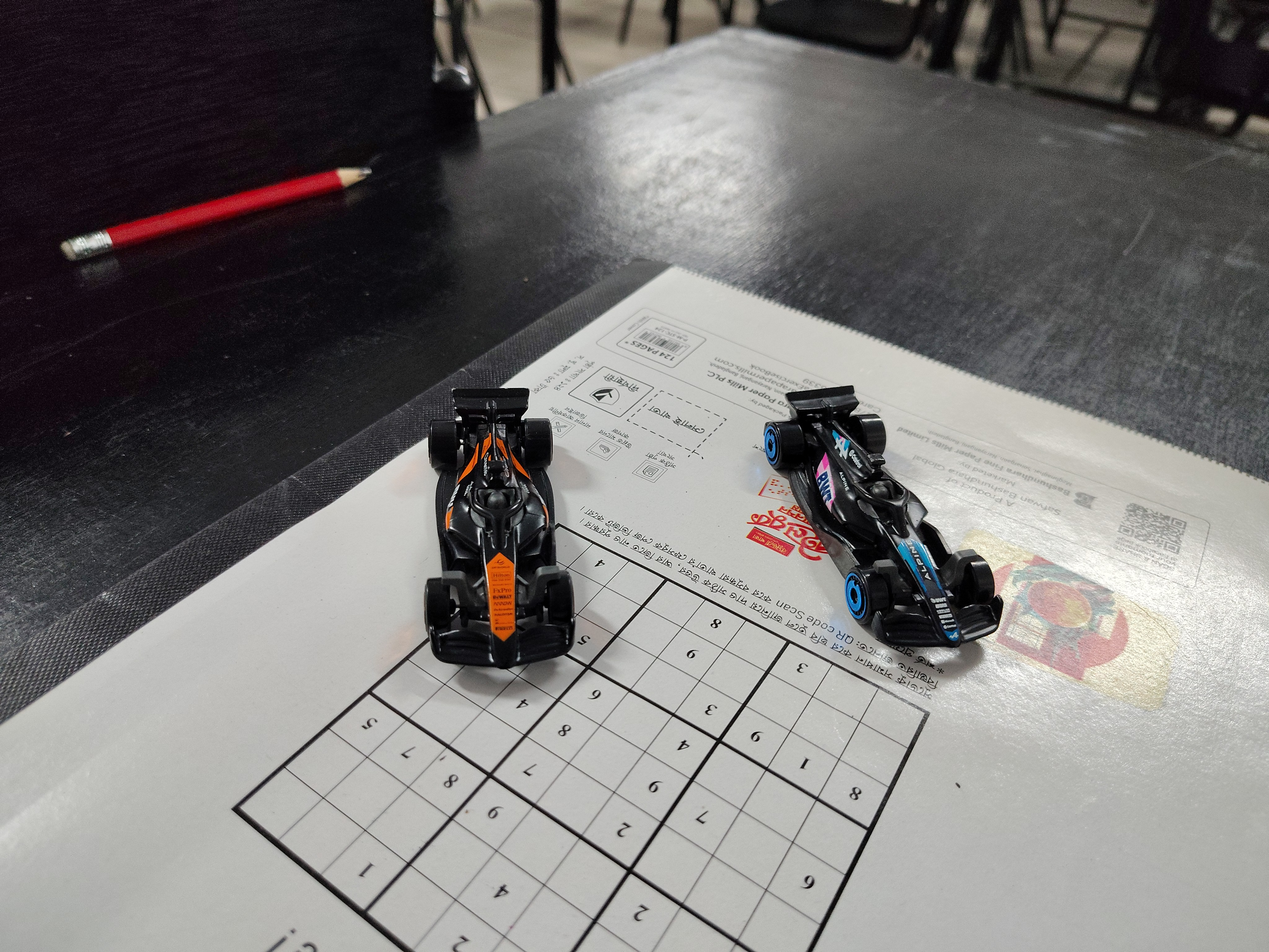McLaren MCL40: (425, 388, 575, 669)
